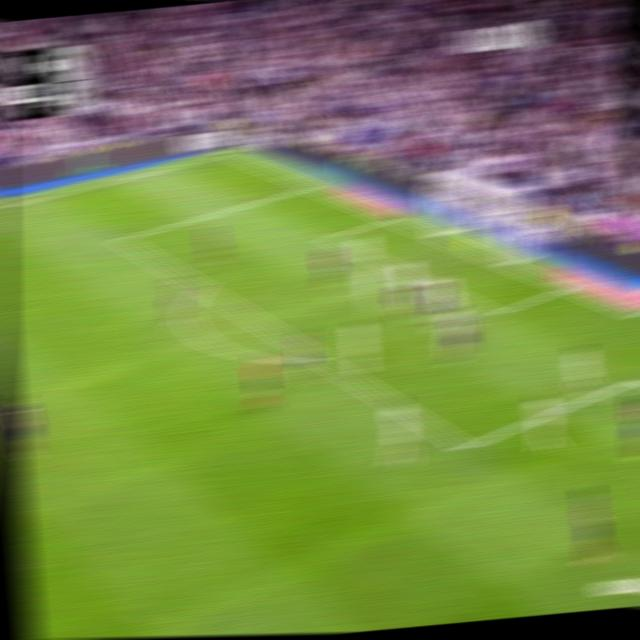bigarea_bottom_inner: (453, 431, 479, 461)
bigarea_top_inner: (110, 228, 132, 248)
bigarea_top_outter: (298, 177, 319, 192)
bottom_arc_area_intersection: (306, 345, 330, 368)
corner: (217, 146, 238, 159)
smallarea_bottom_inner: (484, 301, 506, 324)
smallarea_top_inner: (320, 229, 339, 244)
top_arc_area_intersection: (191, 277, 212, 295)
